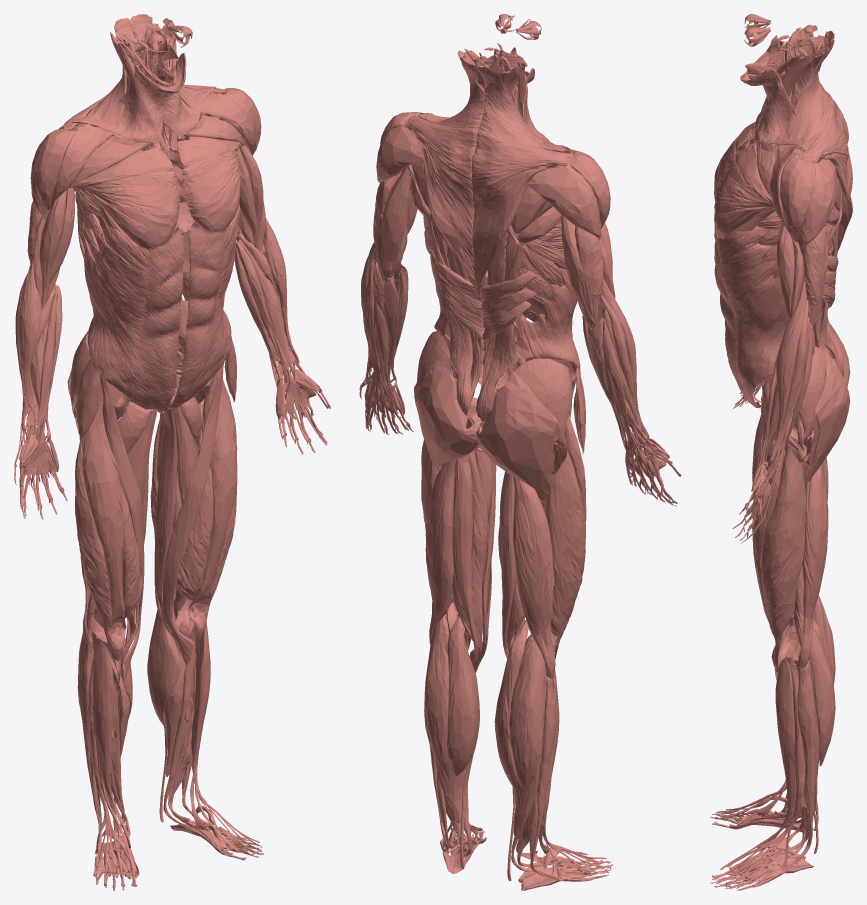
File: muscles.glb
3 renders of one model, left to right at view 1: azimuth 30°, elevation 25°; view 2: azimuth 150°, elevation 25°; view 3: azimuth 270°, elevation 25°, orthographic.
Visible parts, largest first — view 1: Right_external_oblique_FMA13336, Left_external_oblique_FMA13337, Sternocostal_part_of_right_pectoralis_major_FMA79979, Right_rectus_femoris_FMA38928, Sternocostal_part_of_left_pectoralis_major_FMA79980, Left_rectus_femoris_FMA38929, Left_sartorius_FMA22355, Right_vastus_lateralis_FMA38930, Right_platysma_FMA45739, Left_gracilis_FMA43884, Right_sartorius_FMA22354, Right_tibialis_anterior_FMA22544 (+42 smaller); view 2: Right_gluteus_maximus_FMA22328, Long_head_of_right_biceps_femoris_FMA45888, Right_vastus_lateralis_FMA38930, Ascending_part_of_left_trapezius_FMA33583, Ascending_part_of_right_trapezius_FMA33581, Left_gluteus_maximus_FMA22329, Lateral_head_of_right_gastrocnemius_FMA45960, Medial_head_of_left_gastrocnemius_FMA45958, Long_head_of_left_biceps_femoris_FMA45889, Right_external_oblique_FMA13336, Left_semitendinosus_FMA22359, Lateral_head_of_left_gastrocnemius_FMA45961 (+44 smaller); view 3: Left_external_oblique_FMA13337, Left_vastus_lateralis_FMA38931, Long_head_of_left_biceps_femoris_FMA45889, Sternocostal_part_of_left_pectoralis_major_FMA79980, Left_gluteus_maximus_FMA22329, Left_tibialis_anterior_FMA22545, Left_platysma_FMA45740, Acromial_part_of_left_deltoid_FMA34683, Descending_part_of_left_trapezius_FMA33587, Lateral_head_of_left_gastrocnemius_FMA45961, Left_brachioradialis_FMA38487, Left_fibularis_longus_FMA22553 (+35 smaller).
Part boxes in pixels (left/top/right/bottom): Right_external_oblique_FMA13336: left=84, top=216, right=183, bottom=412; Left_external_oblique_FMA13337: left=168, top=203, right=240, bottom=409; Sternocostal_part_of_right_pectoralis_major_FMA79979: left=69, top=146, right=180, bottom=248; Right_rectus_femoris_FMA38928: left=82, top=381, right=126, bottom=661; Sternocostal_part_of_left_pectoralis_major_FMA79980: left=177, top=137, right=242, bottom=231; Left_rectus_femoris_FMA38929: left=188, top=369, right=237, bottom=641; Left_sartorius_FMA22355: left=163, top=362, right=224, bottom=663; Right_vastus_lateralis_FMA38930: left=75, top=433, right=116, bottom=659; Right_platysma_FMA45739: left=71, top=64, right=176, bottom=144; Left_gracilis_FMA43884: left=154, top=407, right=191, bottom=639; Right_sartorius_FMA22354: left=98, top=372, right=144, bottom=678; Right_tibialis_anterior_FMA22544: left=93, top=640, right=130, bottom=848; Right_gluteus_maximus_FMA22328: left=476, top=370, right=560, bottom=497; Long_head_of_right_biceps_femoris_FMA45888: left=513, top=476, right=555, bottom=679; Right_vastus_lateralis_FMA38930: left=545, top=444, right=585, bottom=659; Ascending_part_of_left_trapezius_FMA33583: left=414, top=131, right=480, bottom=298; Ascending_part_of_right_trapezius_FMA33581: left=471, top=154, right=557, bottom=298; Left_gluteus_maximus_FMA22329: left=414, top=355, right=478, bottom=471; Lateral_head_of_right_gastrocnemius_FMA45960: left=509, top=639, right=545, bottom=789; Medial_head_of_left_gastrocnemius_FMA45958: left=447, top=616, right=479, bottom=775; Long_head_of_left_biceps_femoris_FMA45889: left=425, top=459, right=456, bottom=644; Right_external_oblique_FMA13336: left=520, top=268, right=580, bottom=374; Left_semitendinosus_FMA22359: left=452, top=454, right=478, bottom=666; Lateral_head_of_left_gastrocnemius_FMA45961: left=424, top=614, right=448, bottom=769; Left_external_oblique_FMA13337: left=714, top=226, right=788, bottom=408; Left_vastus_lateralis_FMA38931: left=761, top=441, right=806, bottom=671; Long_head_of_left_biceps_femoris_FMA45889: left=798, top=464, right=828, bottom=667; Sternocostal_part_of_left_pectoralis_major_FMA79980: left=714, top=143, right=773, bottom=238; Left_gluteus_maximus_FMA22329: left=801, top=349, right=850, bottom=485; Left_tibialis_anterior_FMA22545: left=757, top=657, right=796, bottom=851; Left_platysma_FMA45740: left=740, top=69, right=810, bottom=150; Acromial_part_of_left_deltoid_FMA34683: left=780, top=155, right=815, bottom=242; Descending_part_of_left_trapezius_FMA33587: left=783, top=40, right=834, bottom=144; Lateral_head_of_left_gastrocnemius_FMA45961: left=793, top=620, right=835, bottom=766; Left_brachioradialis_FMA38487: left=769, top=274, right=806, bottom=463; Left_fibularis_longus_FMA22553: left=764, top=662, right=815, bottom=866.
Bounding box in the file's own units: 0.6387 × 1.61 × 0.2509.
